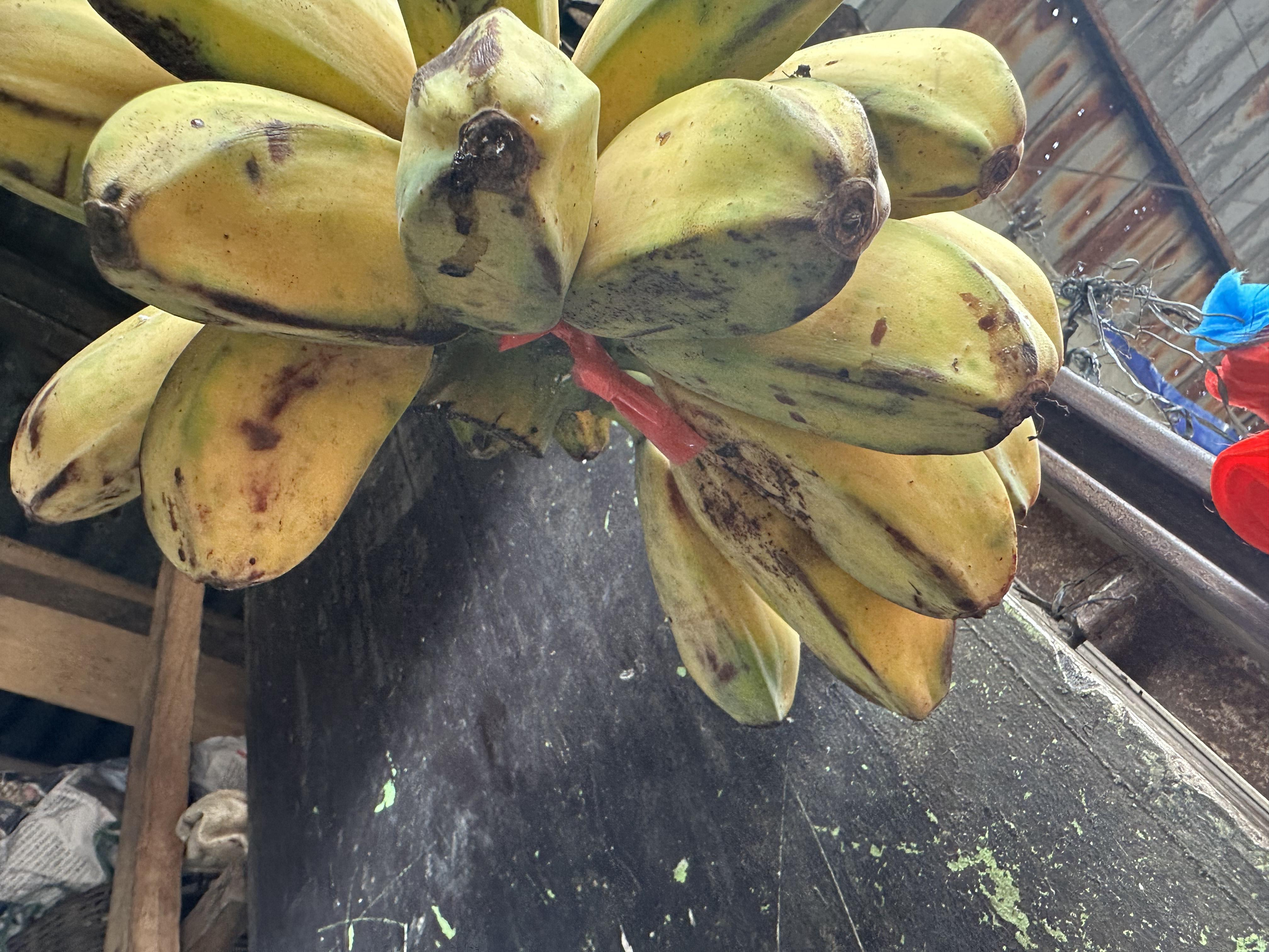underripe: (0, 0, 1065, 727)
